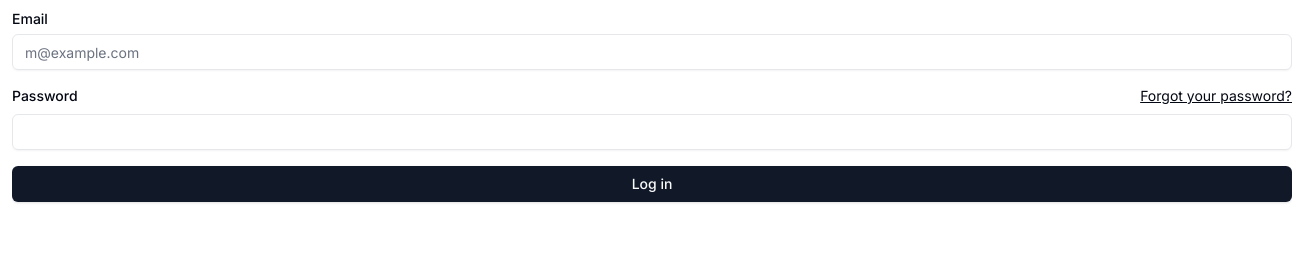
Test: validation is not successful › should show errors if email and password fields are required
Click the button "Log in" at (652, 184), box [12,166,1292,202]
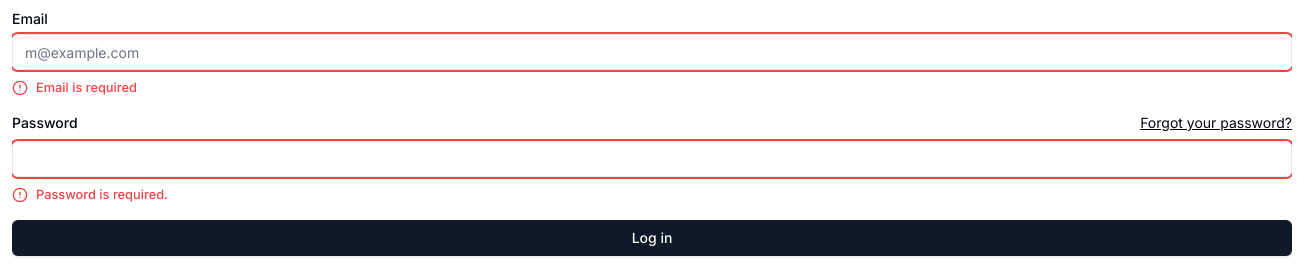
Now the text "Email is required" is shown, box [12,80,137,96]
Now the text "Password is required." is shown, box [12,187,168,203]
